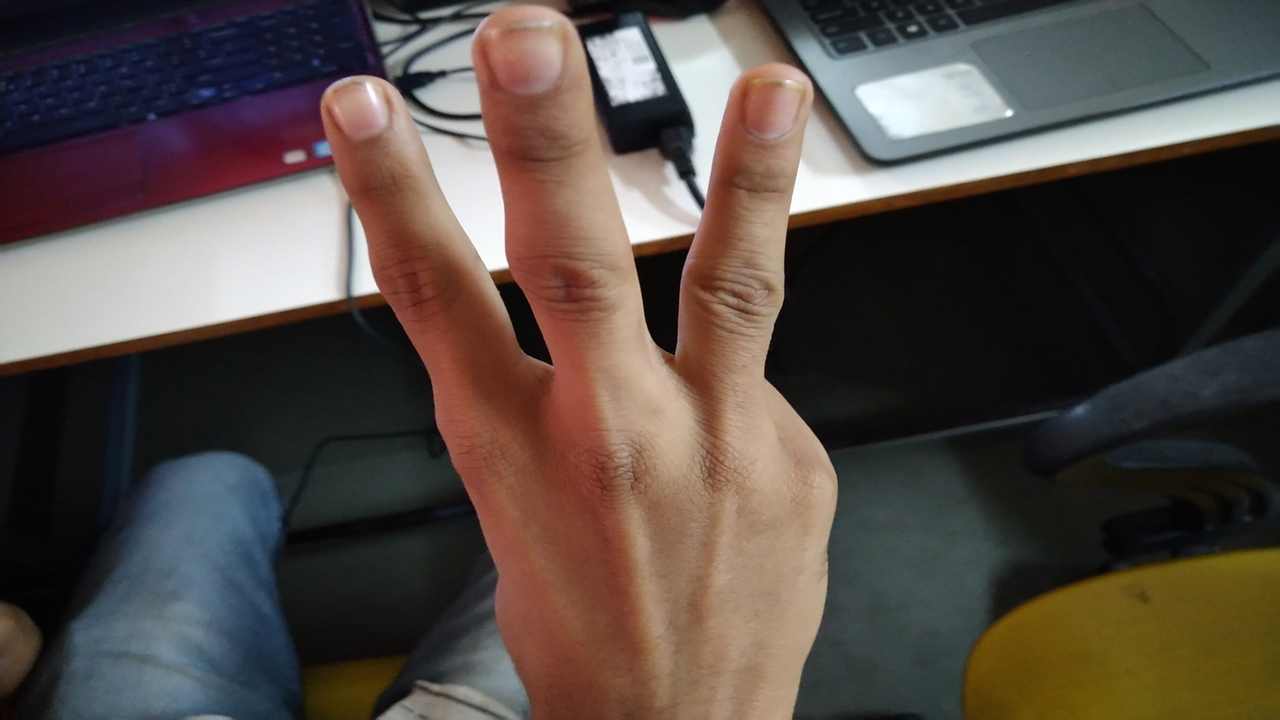fingertip: (442, 8, 591, 96), (316, 75, 408, 147), (732, 56, 814, 132)
